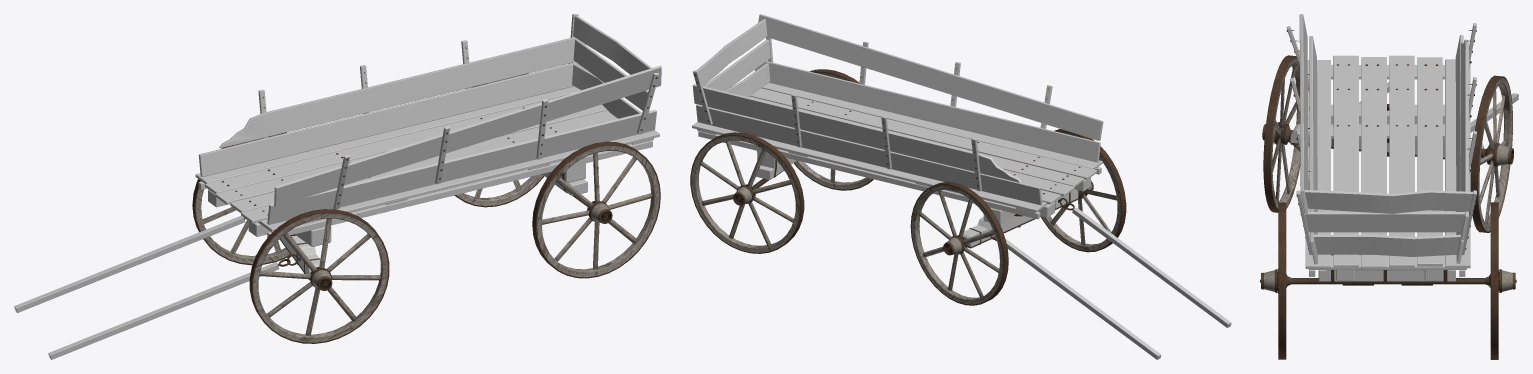
The picture shows the model from 3 angles, left to right: view 1: azimuth 30°, elevation 25°; view 2: azimuth 150°, elevation 25°; view 3: azimuth 270°, elevation 25°; orthographic projection. The views are drawn at different scales.
Parts seen in each view (by area): view 1: CartBody, wheel_fl, wheel_rl, CartSteer, wheel_fr, wheel_rr; view 2: CartBody, wheel_rr, wheel_fr, CartSteer, wheel_fl, wheel_rl; view 3: CartBody, wheel_fr, wheel_fl, wheel_rl, wheel_rr, CartSteer.
Boxes of the visible parts, x1,y1,x2,y2 form: CartBody: [195, 14, 661, 246]; wheel_fl: [249, 209, 389, 343]; wheel_rl: [532, 141, 660, 278]; CartSteer: [14, 215, 320, 359]; wheel_fr: [192, 132, 290, 265]; wheel_rr: [454, 73, 544, 207]; CartBody: [692, 14, 1103, 225]; wheel_rr: [690, 132, 804, 253]; wheel_fr: [910, 182, 1008, 305]; CartSteer: [963, 189, 1231, 359]; wheel_fl: [1041, 129, 1126, 252]; wheel_rl: [793, 69, 873, 190]; CartBody: [1286, 14, 1484, 285]; wheel_fr: [1470, 75, 1513, 232]; wheel_fl: [1262, 55, 1300, 212]; wheel_rl: [1260, 202, 1292, 359]; wheel_rr: [1484, 202, 1516, 359]; CartSteer: [1290, 82, 1518, 159].
Size of the model in its own units: 390 by 120 by 140.
